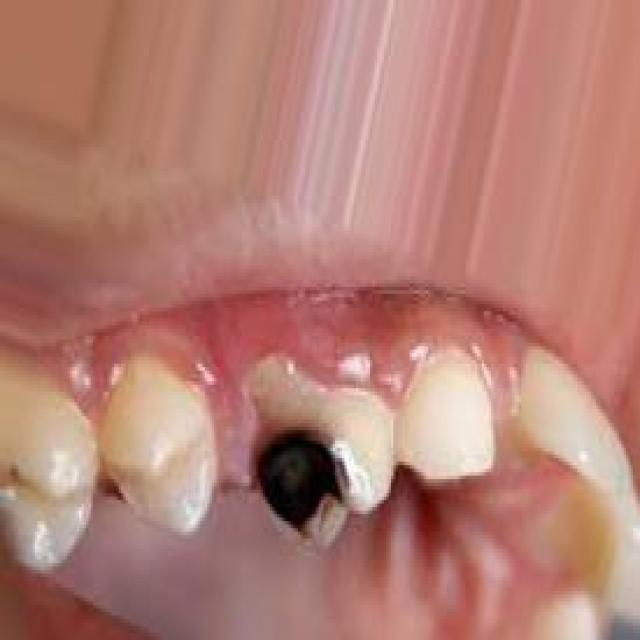caries: (246, 367, 396, 550)
